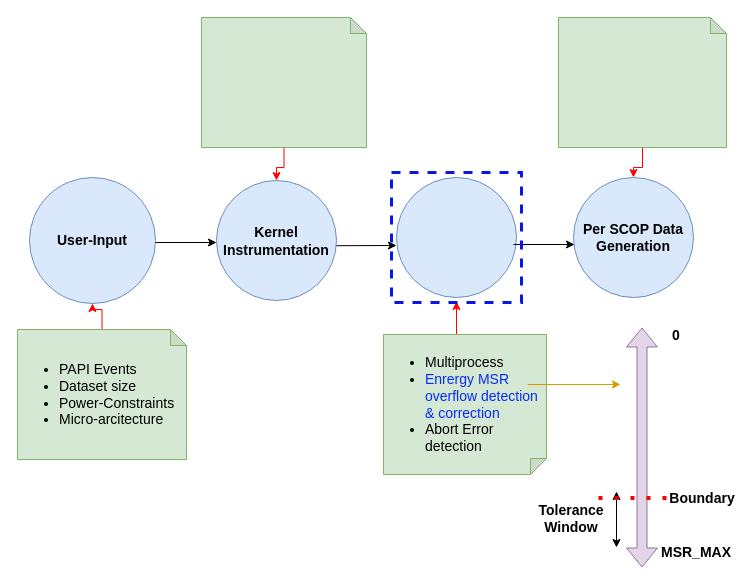
The diagram is 752 pixels wide and 585 high, and some of its shapes have lost their labels. Here are the shapes that lost their labels. From the top down, the centre of each, then its label:
At pixel 283 82: "Dataset Size Memory Fencing Rdmsr calls Precise C-Timers Cache-flush".
At pixel 642 82: "Energy Consumed Execution Time Cache-misses".
At pixel 456 237: "Statistically Sound measurements".
